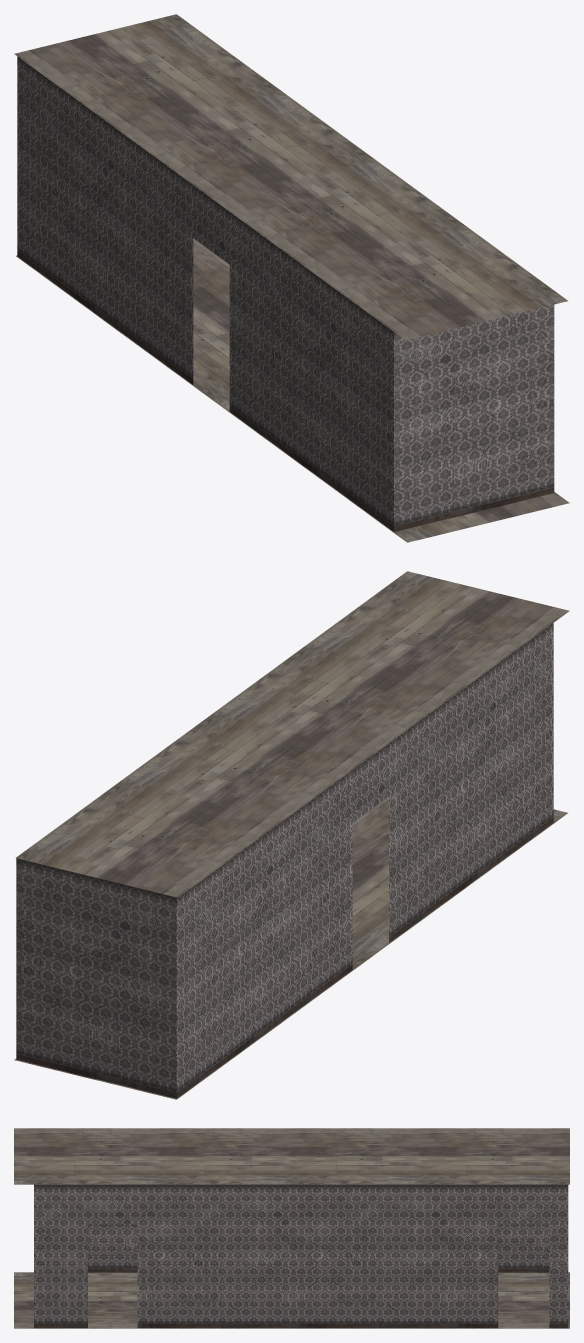
The model's file is mur_couloir1.fbx.
3 renders of one model, top to bottom at view 1: azimuth 30°, elevation 25°; view 2: azimuth 150°, elevation 25°; view 3: azimuth 270°, elevation 25°, orthographic. The views are drawn at different scales.
Parts seen in each view (by area): view 1: pCube7, pPlane21, pPlane20; view 2: pCube7, pPlane21, pPlane20; view 3: pCube7, pPlane21, pPlane20.
Part boxes in pixels (left/top/right/bottom): pCube7: left=17, top=56, right=554, bottom=531; pPlane21: left=14, top=14, right=567, bottom=340; pPlane20: left=16, top=238, right=569, bottom=542; pCube7: left=16, top=623, right=553, bottom=1098; pPlane21: left=16, top=571, right=569, bottom=897; pPlane20: left=14, top=796, right=567, bottom=1099; pCube7: left=34, top=1184, right=568, bottom=1328; pPlane21: left=14, top=1128, right=569, bottom=1184; pPlane20: left=14, top=1272, right=569, bottom=1328.
Size of the model in its own units: 261 by 308 by 1082.
